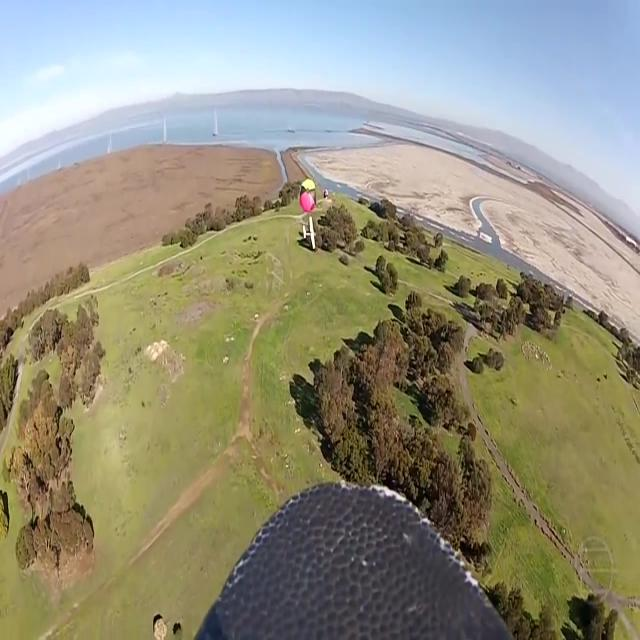iha: (303, 216, 316, 249)
